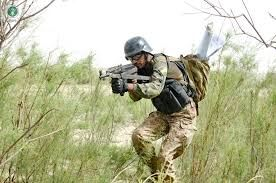gun: (93, 60, 150, 92)
uniform: (112, 29, 205, 173)
